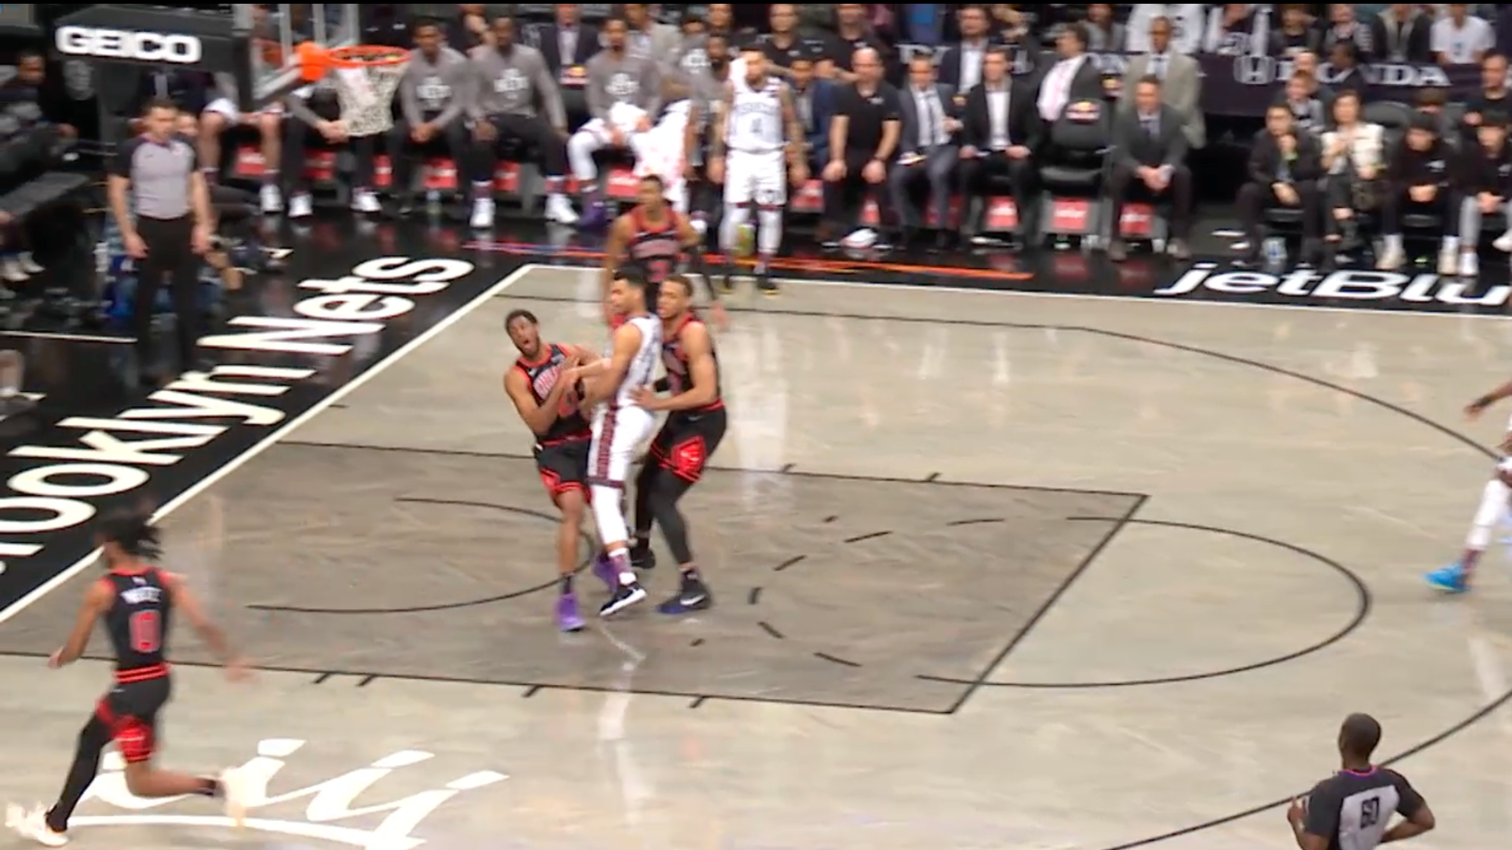Foul: (487, 271, 649, 636)
